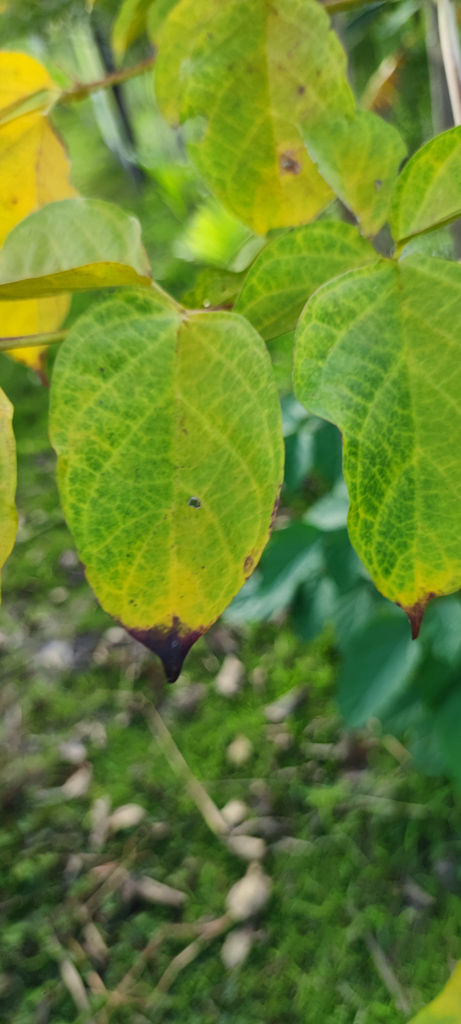Pepper yellow leaf: (147, 6, 372, 244), (63, 519, 237, 691), (1, 43, 80, 397), (333, 517, 457, 651)
